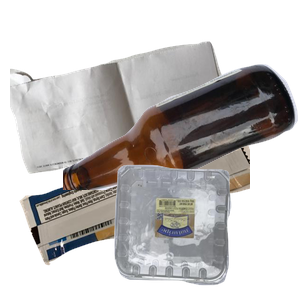glass: (63, 62, 300, 242)
paper: (10, 39, 236, 205)
plastic: (112, 162, 300, 300)
trash: (17, 123, 257, 300)
